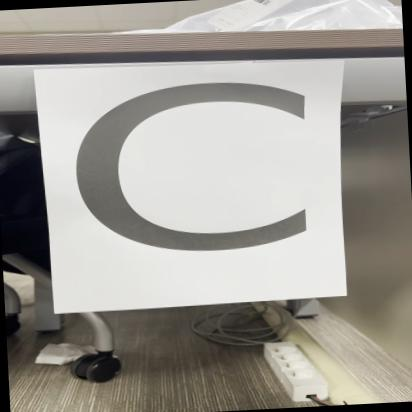seat: (31, 55, 350, 314)
